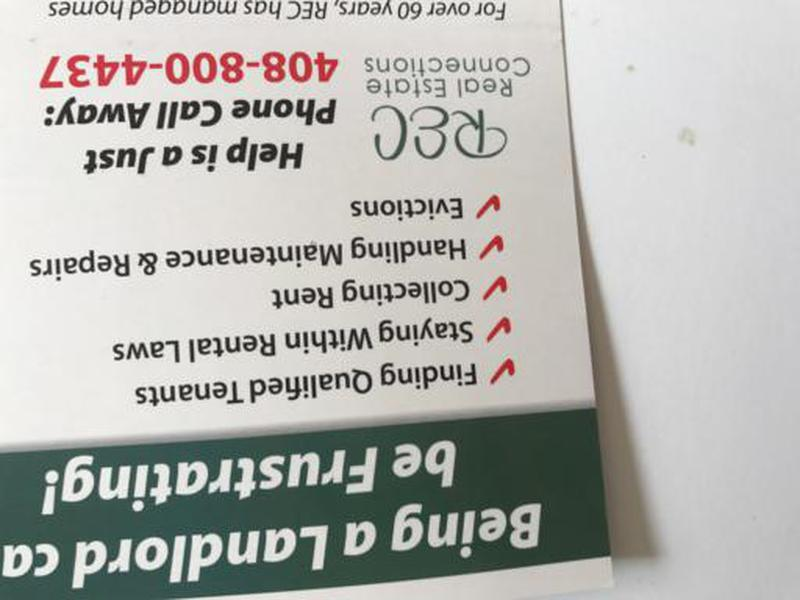paper: (1, 1, 627, 600)
